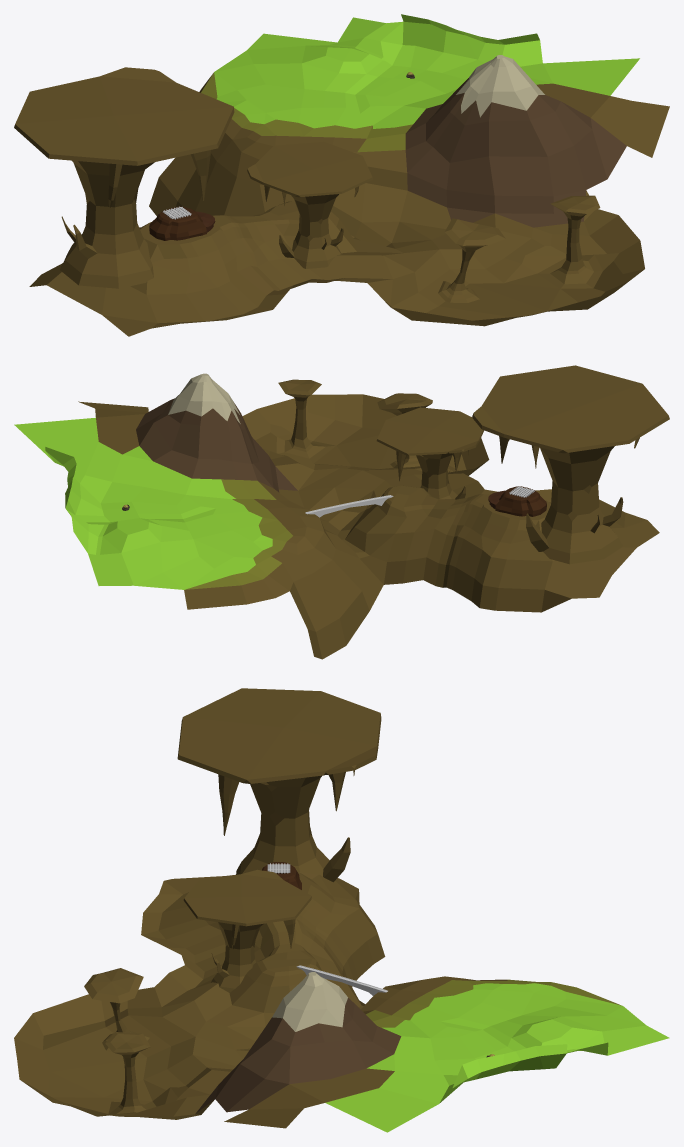
File: church.obj
3 renders of one model, top to bottom at view 1: azimuth 30°, elevation 25°; view 2: azimuth 150°, elevation 25°; view 3: azimuth 270°, elevation 25°, orthographic. The views are drawn at different scales.
Parts seen in each view (by area): view 1: Plane.014, Cube.029_Cube.028, Cube.027, Cube.007; view 2: Plane.014, Cube.029_Cube.028, Cube.027, Cube.007, Cube.028_Cube.030; view 3: Plane.014, Cube.029_Cube.028, Cube.027.
Part boxes in pixels (x1,y1,x2,y2): Plane.014: [29, 14, 669, 336]; Cube.029_Cube.028: [14, 67, 234, 288]; Cube.027: [247, 141, 372, 268]; Cube.007: [149, 206, 206, 240]; Plane.014: [14, 373, 659, 659]; Cube.029_Cube.028: [472, 365, 669, 564]; Cube.027: [376, 407, 484, 499]; Cube.007: [495, 486, 546, 516]; Cube.028_Cube.030: [305, 495, 393, 517]; Plane.014: [14, 871, 669, 1132]; Cube.029_Cube.028: [177, 688, 381, 882]; Cube.027: [183, 869, 311, 992].
Bounding box in the file's own units: 3905 × 1348 × 3327.
